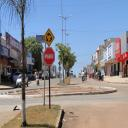Pare: (44, 46, 56, 67)
Rotatoria: (44, 28, 56, 47)
